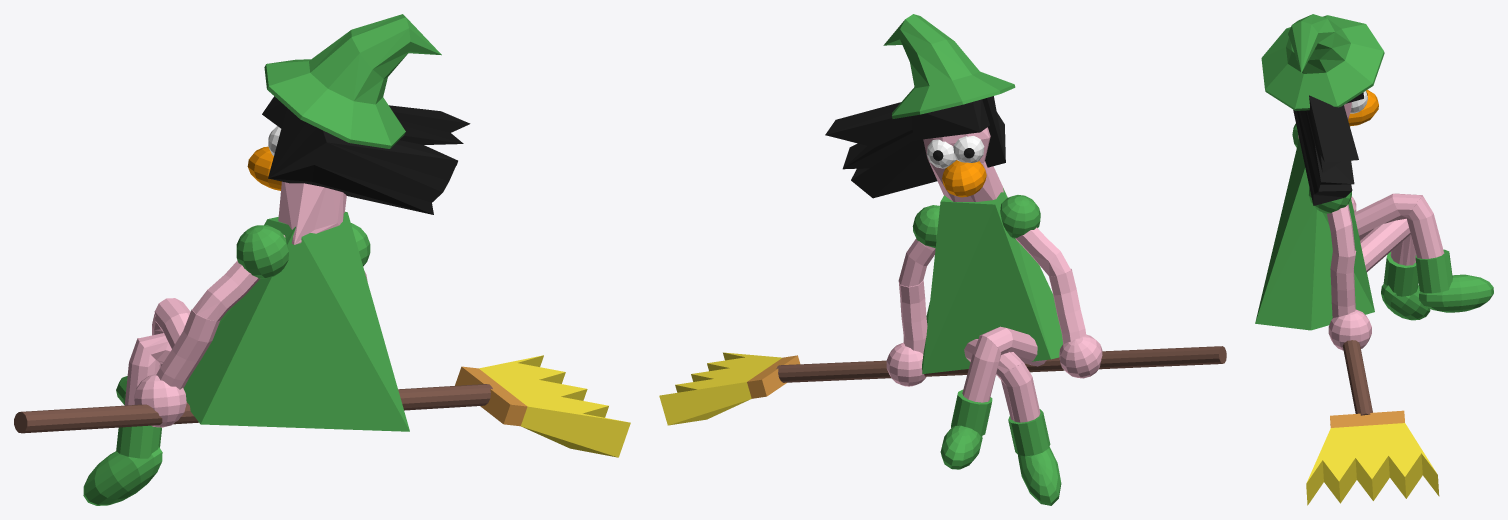
File: Vestidoverde.fbx
3 views of the same model, side by side, from view 1: azimuth 30°, elevation 25°; view 2: azimuth 150°, elevation 25°; view 3: azimuth 270°, elevation 25° (orthographic). The views are drawn at different scales.
Visible parts, largest first — view 1: mesh_240340077, mesh_522835058, mesh_801353689, mesh_1108634640, mesh_482772472, mesh_104699510, mesh_1255168626, mesh_252787808, mesh_811559775, mesh_581253501, mesh_1233205115, mesh_13987301 (+3 smaller); view 2: mesh_240340077, mesh_522835058, mesh_801353689, mesh_1108634640, mesh_482772472, mesh_267540376, mesh_1255168626, mesh_529413551, mesh_252787808, mesh_231751746, mesh_134991641, mesh_104699510 (+13 smaller); view 3: mesh_240340077, mesh_801353689, mesh_1108634640, mesh_522835058, mesh_762911156, mesh_469911954, mesh_529413551, mesh_134991641, mesh_982881240, mesh_482772472, mesh_424486395, mesh_1794441015 (+6 smaller).
Boxes of the visible parts, x1,y1,x2,y2 form: mesh_240340077: (183, 211, 409, 431); mesh_522835058: (268, 105, 470, 214); mesh_801353689: (264, 14, 441, 148); mesh_1108634640: (455, 355, 630, 457); mesh_482772472: (14, 384, 492, 433); mesh_104699510: (278, 181, 346, 244); mesh_1255168626: (83, 447, 162, 505); mesh_252787808: (156, 309, 220, 389); mesh_811559775: (236, 225, 288, 278); mesh_581253501: (192, 235, 285, 321); mesh_1233205115: (134, 374, 186, 427); mesh_13987301: (116, 425, 161, 458); mesh_240340077: (922, 188, 1062, 374); mesh_522835058: (825, 96, 1005, 198); mesh_801353689: (883, 14, 1015, 118); mesh_1108634640: (659, 352, 800, 425); mesh_482772472: (776, 346, 1226, 382); mesh_267540376: (912, 99, 989, 140); mesh_1255168626: (1018, 447, 1061, 505); mesh_529413551: (962, 335, 1001, 402); mesh_252787808: (1049, 269, 1086, 343); mesh_231751746: (1000, 363, 1040, 422); mesh_134991641: (898, 280, 927, 353); mesh_104699510: (923, 127, 1007, 201); mesh_240340077: (1255, 138, 1374, 330); mesh_801353689: (1261, 14, 1384, 110); mesh_1108634640: (1306, 410, 1439, 505); mesh_522835058: (1293, 95, 1358, 205); mesh_762911156: (1419, 274, 1493, 312); mesh_469911954: (1354, 193, 1422, 240); mesh_529413551: (1406, 195, 1444, 258); mesh_134991641: (1330, 250, 1356, 318); mesh_982881240: (1360, 218, 1410, 272); mesh_482772472: (1342, 340, 1372, 415); mesh_424486395: (1415, 249, 1452, 293); mesh_1794441015: (1328, 309, 1371, 350).
Size of the model in its own units: 163 by 127 by 68.63.
